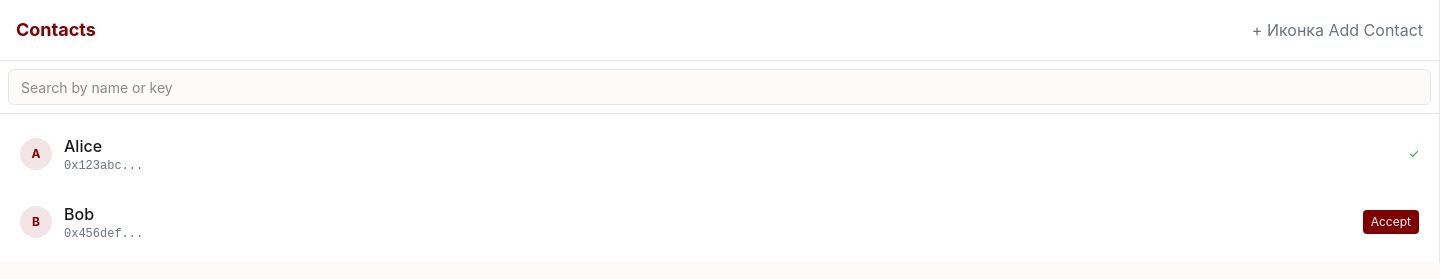
Scenario: ContactsLeft › должен фильтровать контакты по поиску
In the field with placeholder "Search by name or key": (720, 87) [8, 69, 1431, 105], type "Alice"
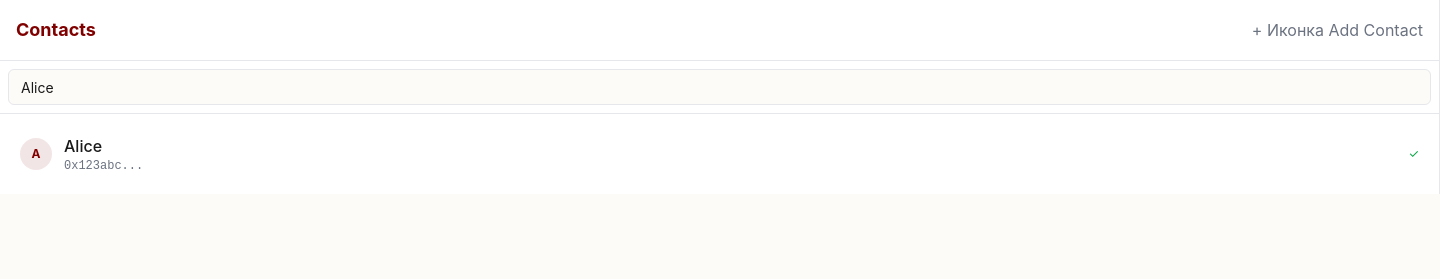
Expected: the text "Alice" is shown, [64, 136, 102, 156]
Expected: the button "Bob" is gone
